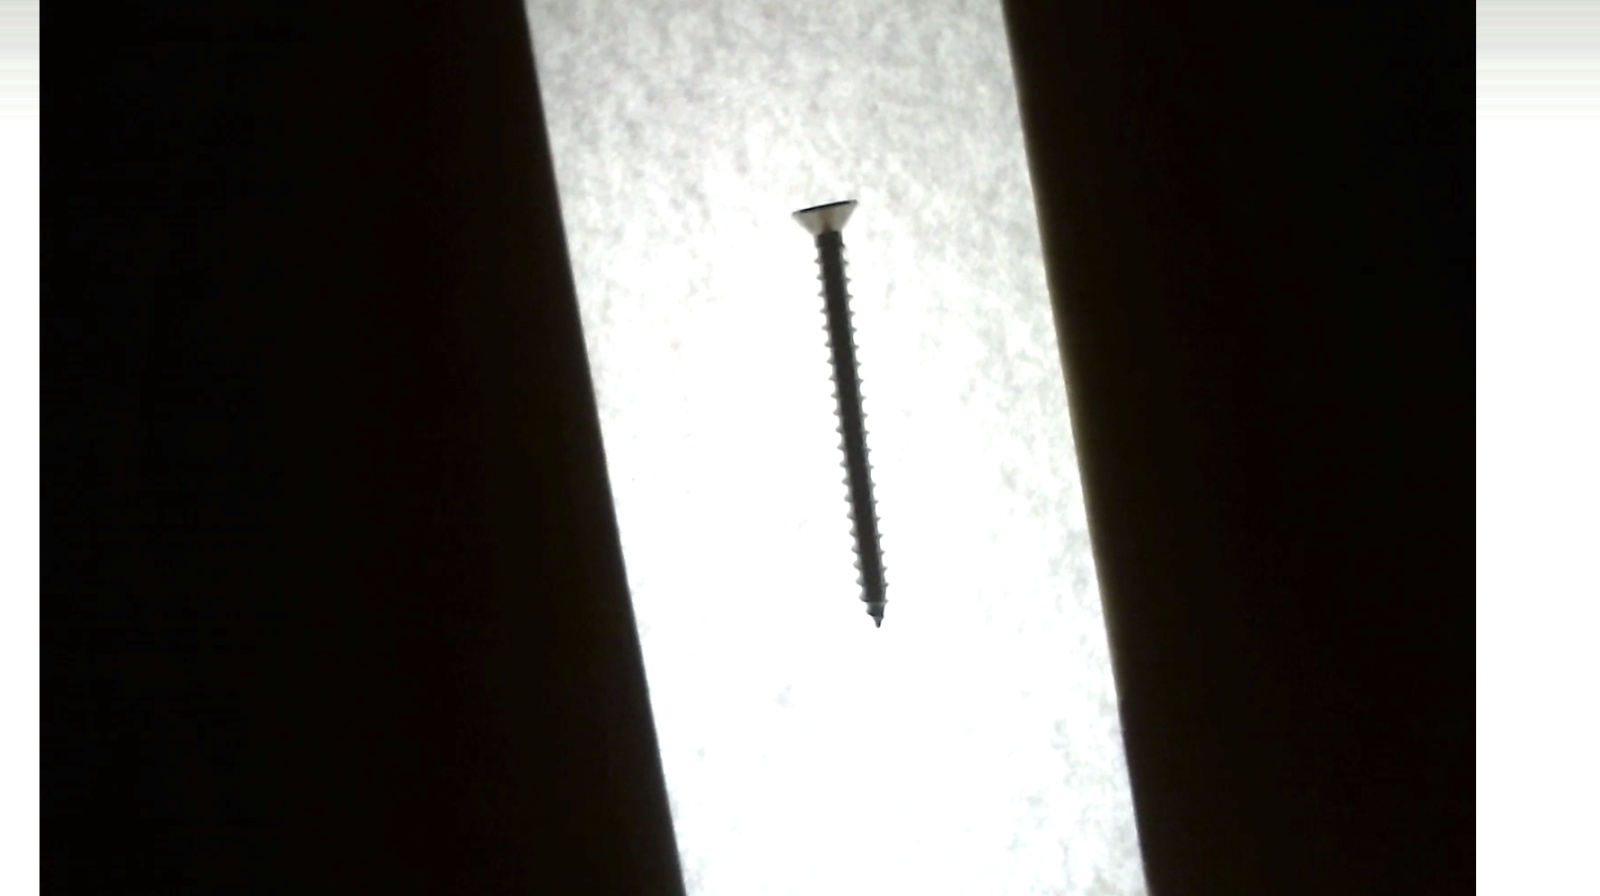S002: (771, 189, 916, 635)
